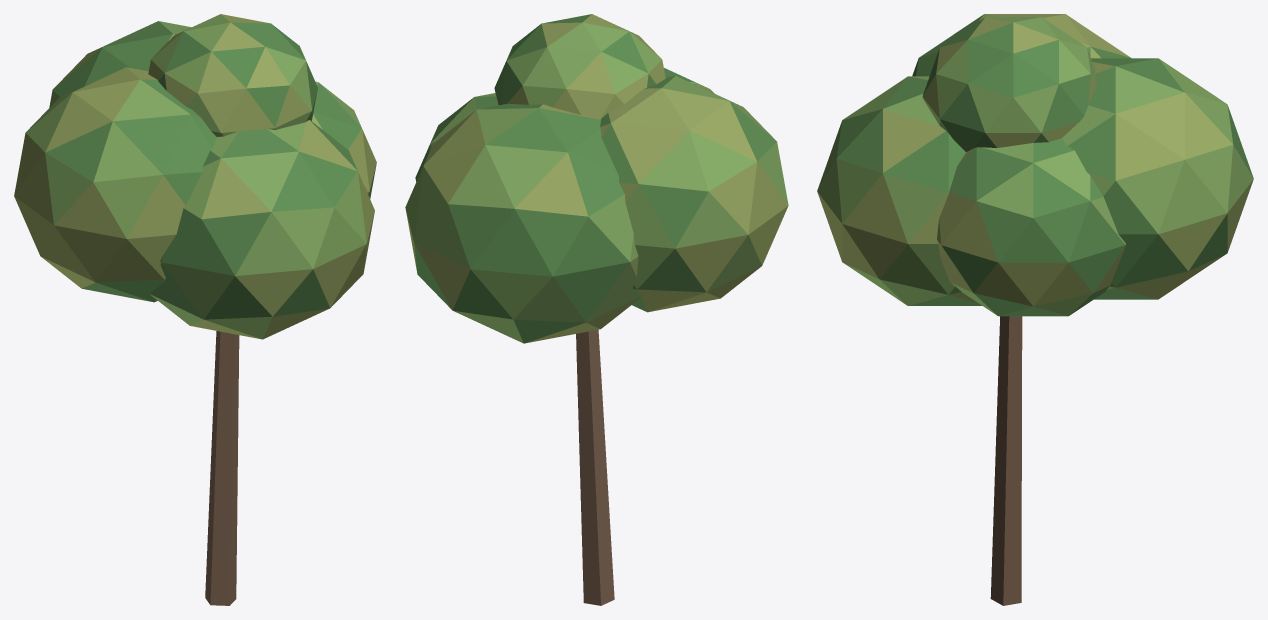
The model's file is tree_sapling.glb.
The picture shows the model from 3 angles, left to right: view 1: azimuth 30°, elevation 25°; view 2: azimuth 150°, elevation 25°; view 3: azimuth 270°, elevation 25°; orthographic projection.
Parts seen in each view (by area): view 1: tree_sapling; view 2: tree_sapling; view 3: tree_sapling.
Boxes of the visible parts, bbox=[...] form: tree_sapling: bbox=[14, 14, 376, 605]; tree_sapling: bbox=[405, 14, 788, 605]; tree_sapling: bbox=[817, 14, 1253, 605].
Size of the model in its own units: 1.28 by 2.12 by 1.44.
